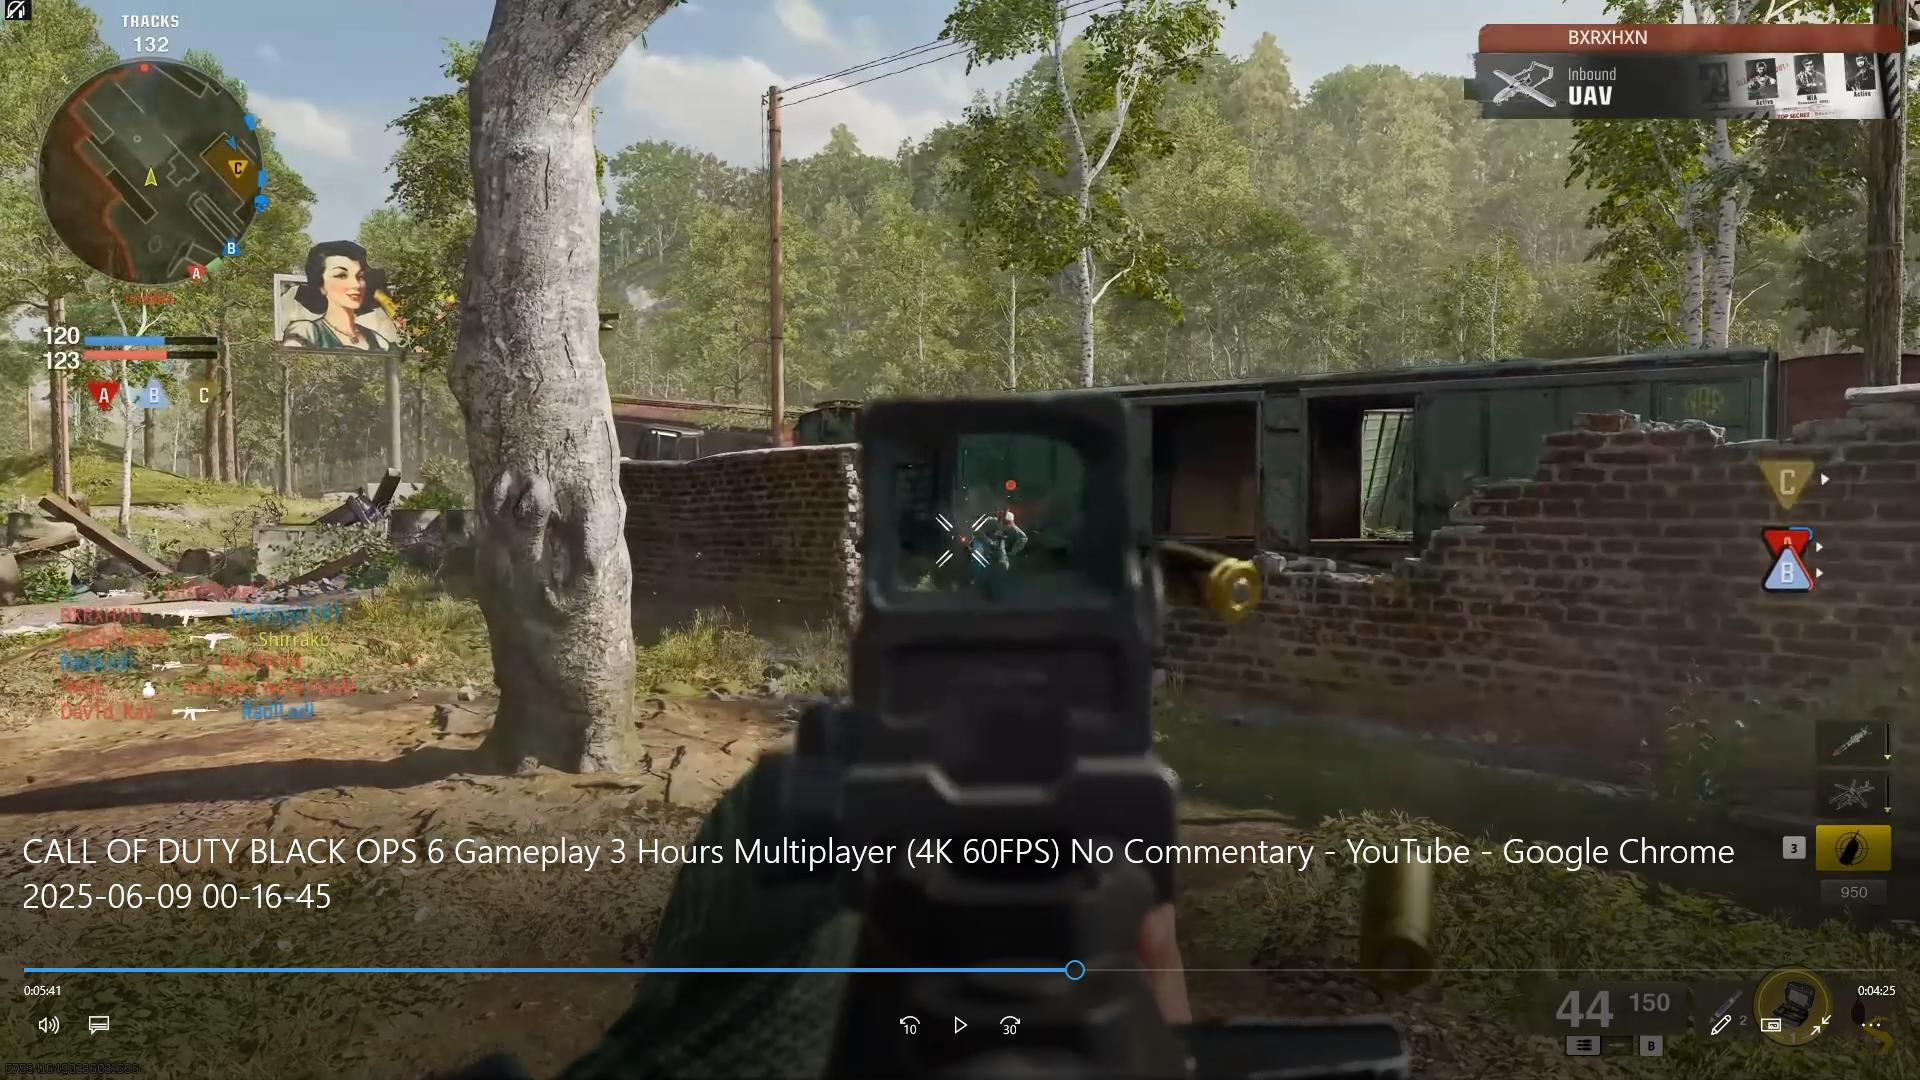Enemy: (980, 509, 1027, 571)
